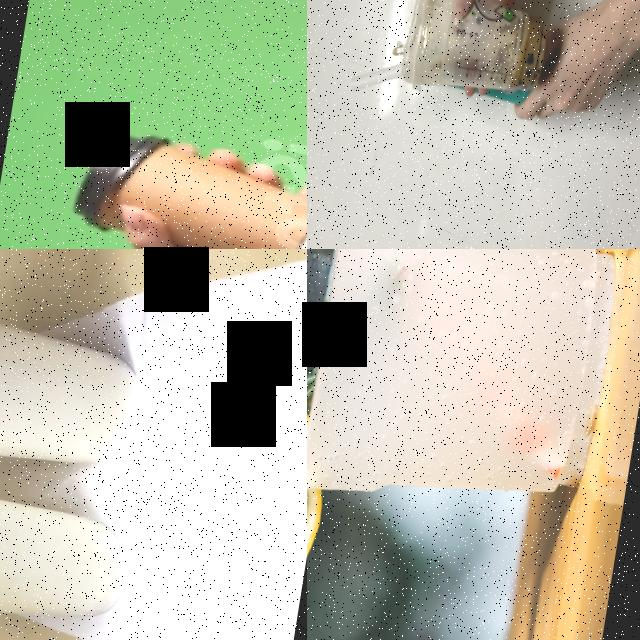cup: (307, 249, 635, 547), (0, 249, 152, 494), (0, 428, 141, 640), (70, 127, 307, 249), (399, 0, 554, 108)
